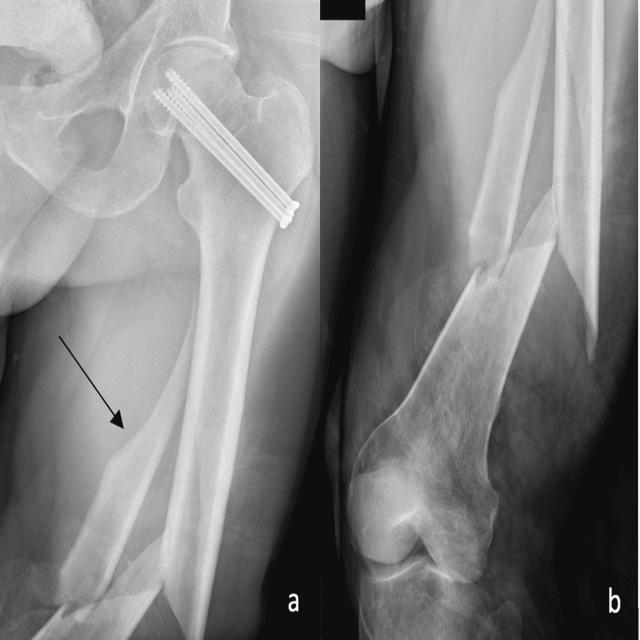fracture: (442, 101, 610, 390), (43, 430, 241, 640)
